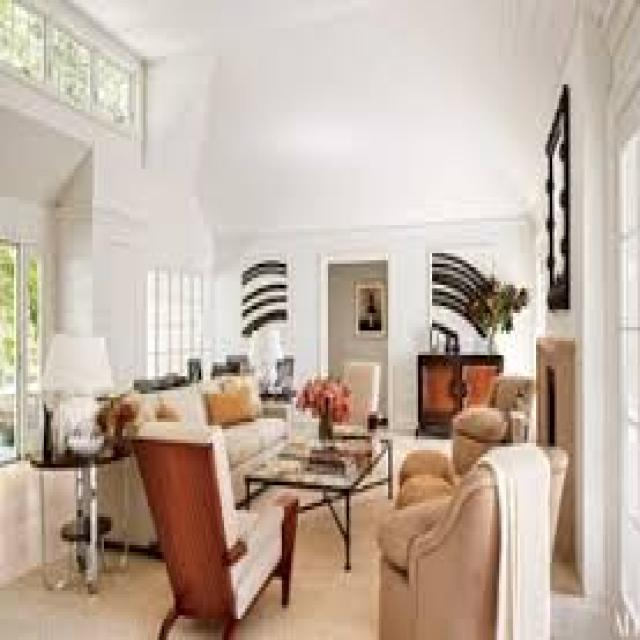Chair: (134, 404, 303, 640), (382, 436, 557, 640), (337, 343, 390, 438)
Sofa: (83, 354, 294, 541)
Table: (245, 402, 383, 580), (32, 419, 131, 607)
